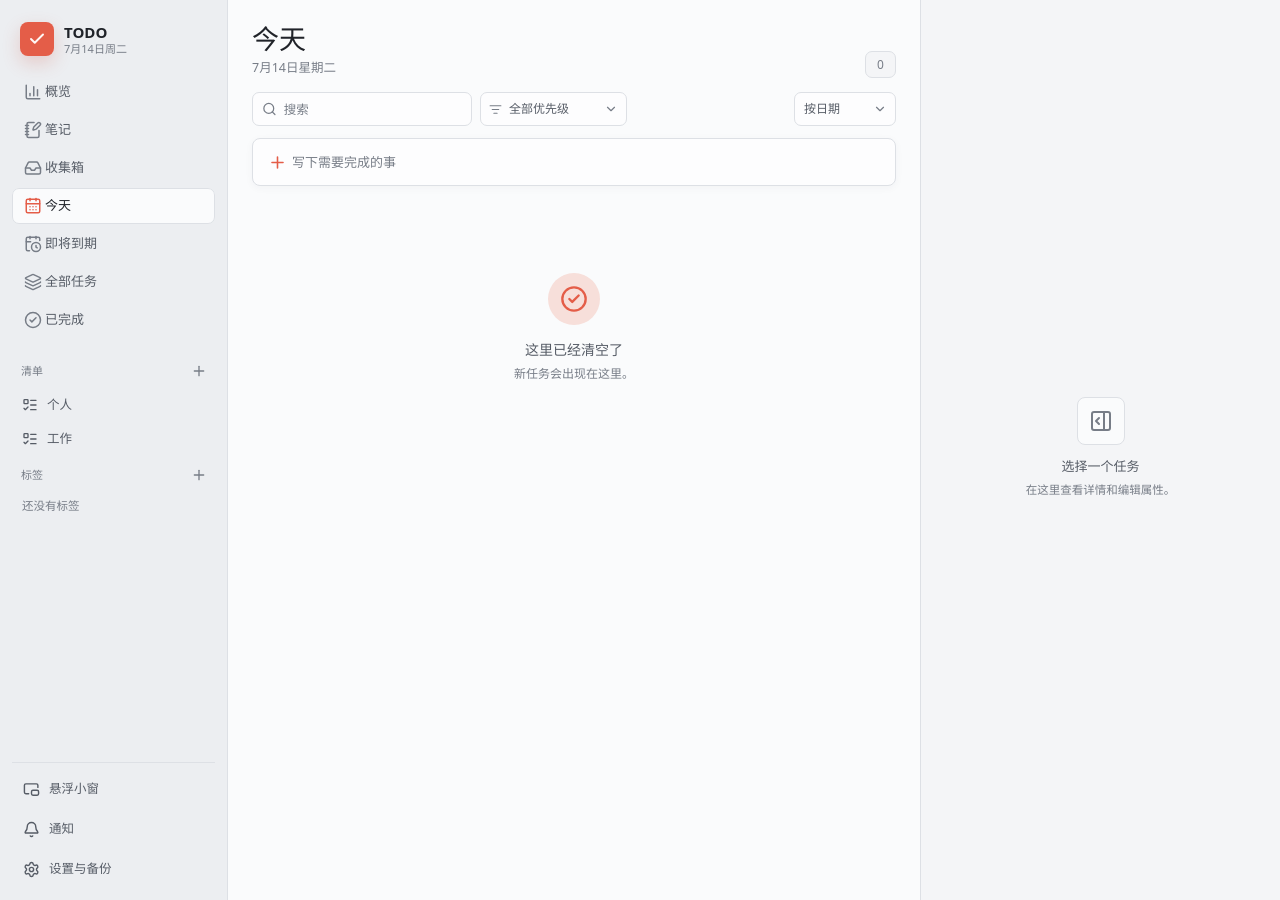
TODO application › shows positive sidebar counts and hides zero counts
This screenshot has width=1280, height=900.
Click the button "个人" at (100, 405), box [12,388,187,422]
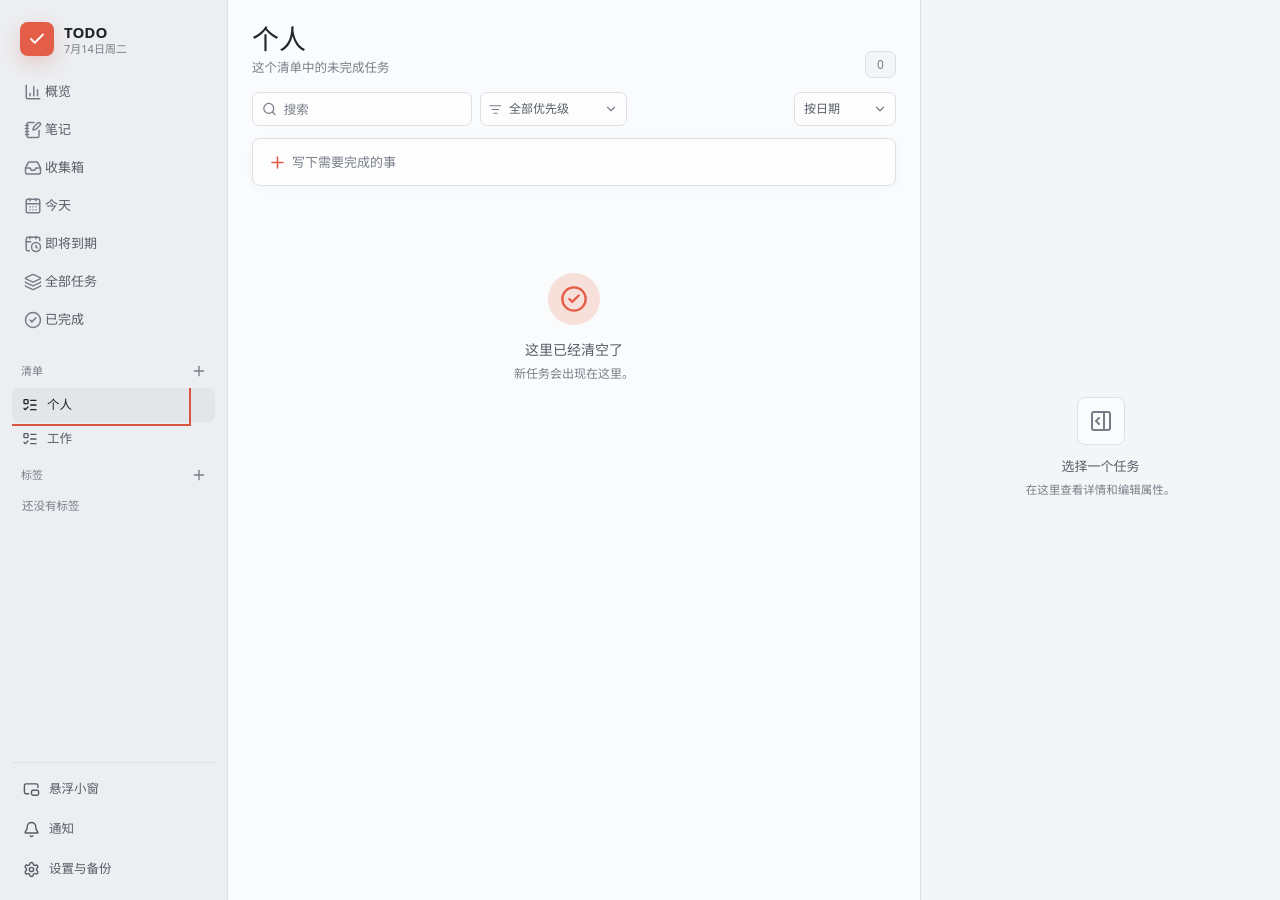
Type "个人清单任务" into the field named "添加任务" at (563, 162), box [292,144,834,180]
Then press Enter
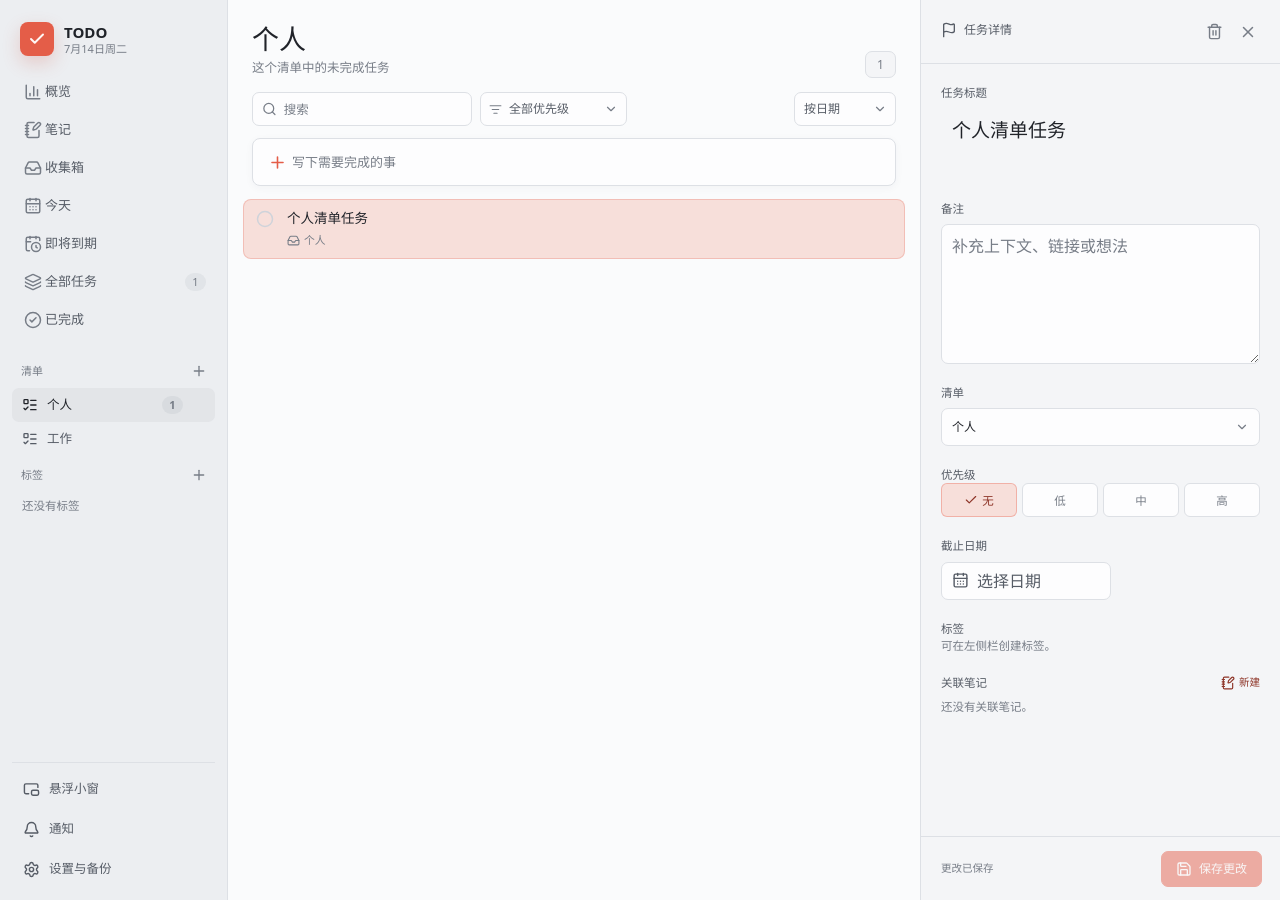
Check: the 3rd text with class "sidebar-count" reads "1", box [169,397,176,412]
Check: the 2nd text with class "sidebar-count" reads "1", box [192,274,199,289]
